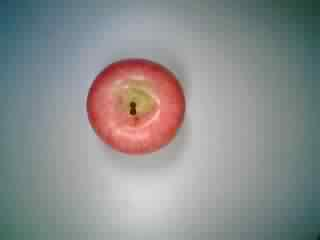apple: (81, 55, 186, 157)
